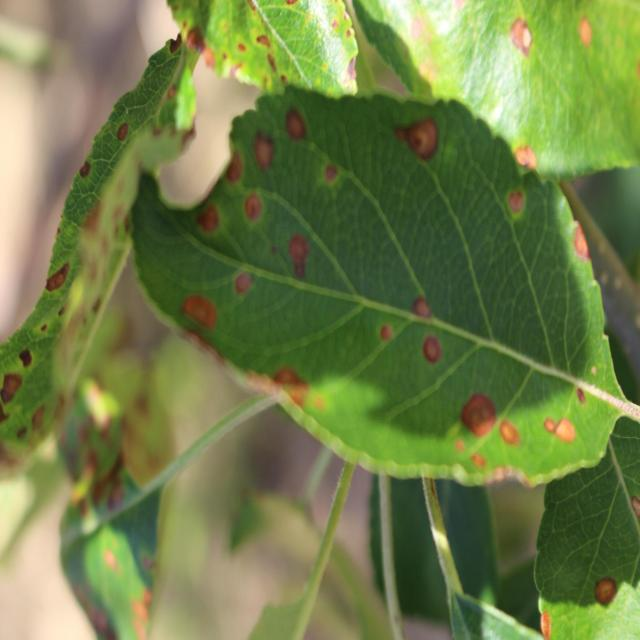Black Rot: (240, 352, 332, 426), (392, 114, 445, 166), (460, 381, 499, 443), (177, 294, 230, 338), (493, 408, 531, 456), (132, 574, 158, 640), (284, 228, 314, 284), (587, 563, 621, 610), (44, 255, 78, 300), (504, 13, 538, 56), (191, 200, 227, 239), (97, 539, 131, 580), (281, 101, 311, 146), (569, 217, 596, 264), (410, 290, 440, 332), (417, 336, 451, 369), (501, 182, 529, 222), (183, 15, 207, 61), (0, 363, 27, 403), (515, 132, 538, 178), (243, 188, 264, 238), (255, 135, 280, 177), (320, 156, 342, 200), (224, 150, 249, 188), (30, 398, 47, 450), (376, 314, 396, 358), (554, 412, 576, 450), (578, 10, 596, 56), (16, 341, 37, 373), (114, 118, 136, 147), (228, 275, 256, 297), (572, 382, 592, 411), (466, 450, 486, 478), (169, 25, 183, 64), (254, 28, 273, 56), (628, 488, 640, 531), (538, 606, 554, 638), (266, 52, 282, 83), (540, 410, 556, 440), (232, 33, 250, 58), (0, 396, 12, 431), (77, 158, 94, 182), (15, 422, 28, 448)
